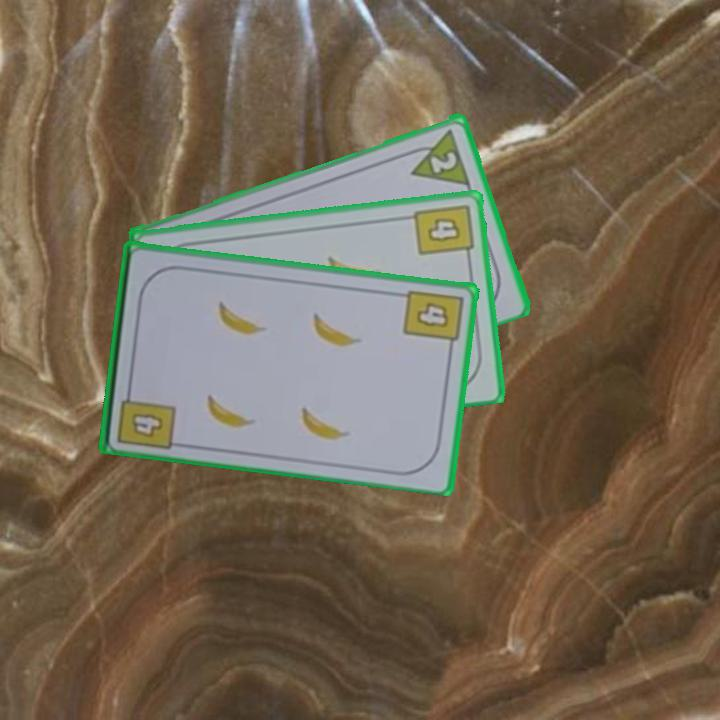2p: (401, 124, 474, 188)
4b: (113, 381, 178, 452), (400, 286, 466, 354), (410, 200, 476, 264)
